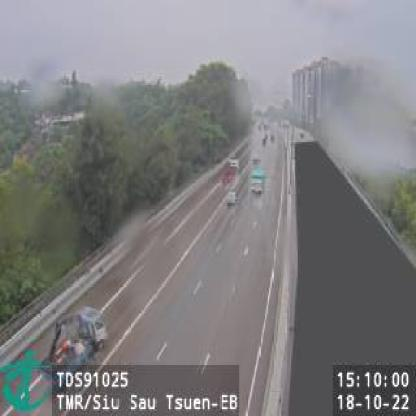Car: (225, 190, 239, 208)
Truck: (40, 309, 108, 390), (251, 168, 267, 196)
